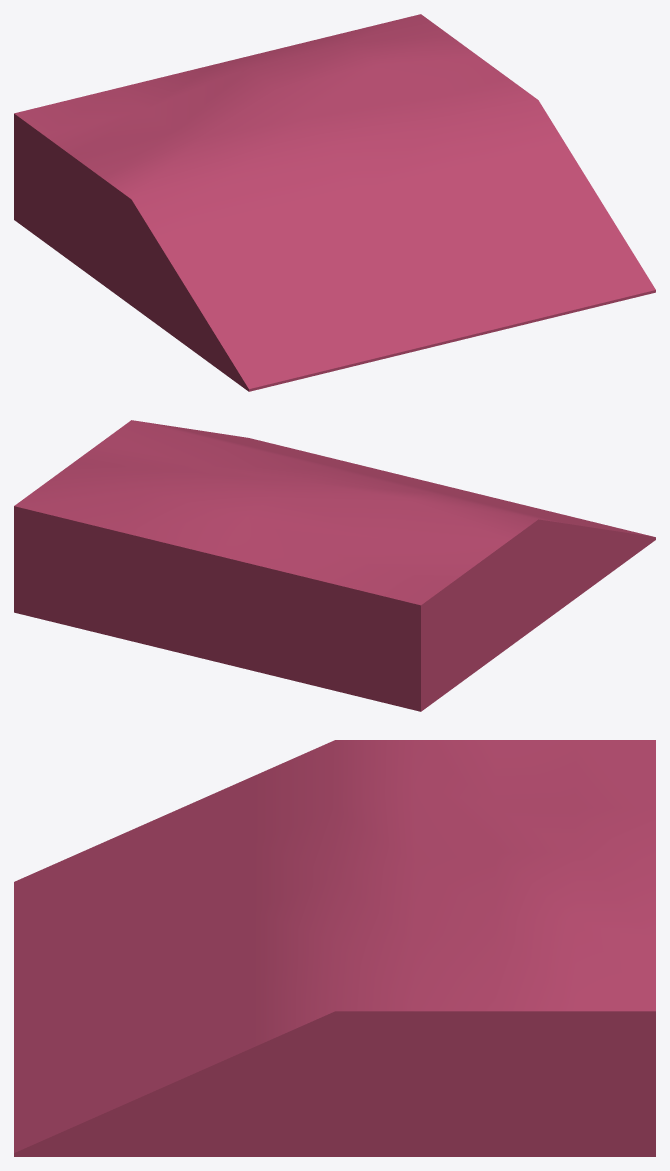
The model's file is uniformedTile-32_col.fbx.
3 renders of one model, top to bottom at view 1: azimuth 30°, elevation 25°; view 2: azimuth 150°, elevation 25°; view 3: azimuth 270°, elevation 25°, orthographic. The views are drawn at different scales.
Parts seen in each view (by area): view 1: uniformedTile-32.col; view 2: uniformedTile-32.col; view 3: uniformedTile-32.col.
Part boxes in pixels (left/top/right/bottom): uniformedTile-32.col: left=14, top=14, right=655, bottom=391; uniformedTile-32.col: left=14, top=420, right=655, bottom=711; uniformedTile-32.col: left=14, top=740, right=655, bottom=1156.
Size of the model in its own units: 2 by 0.5797 by 2.
Materials: 1 (1 with a texture image).
